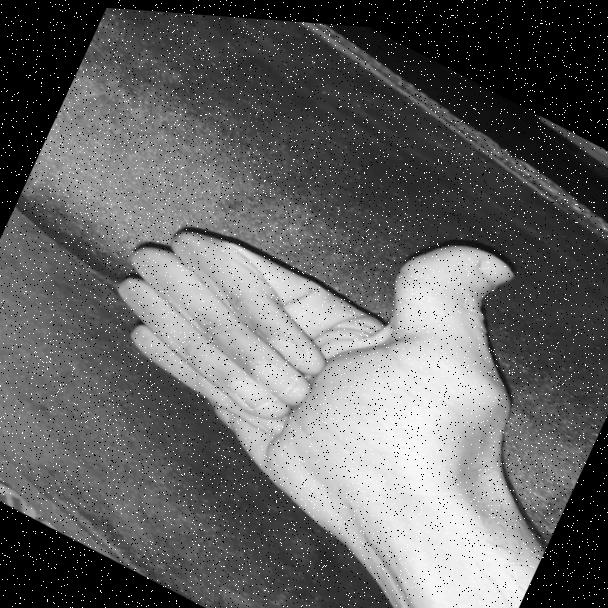five: (78, 96, 580, 579)
